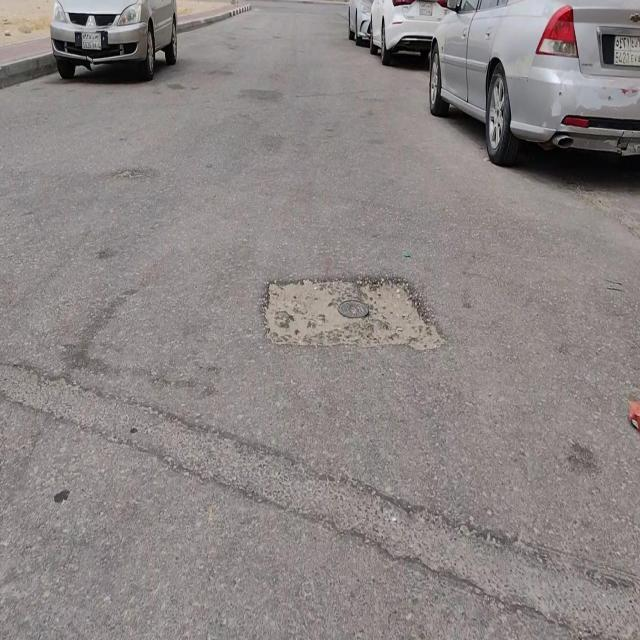Potholes: (264, 277, 432, 351)
